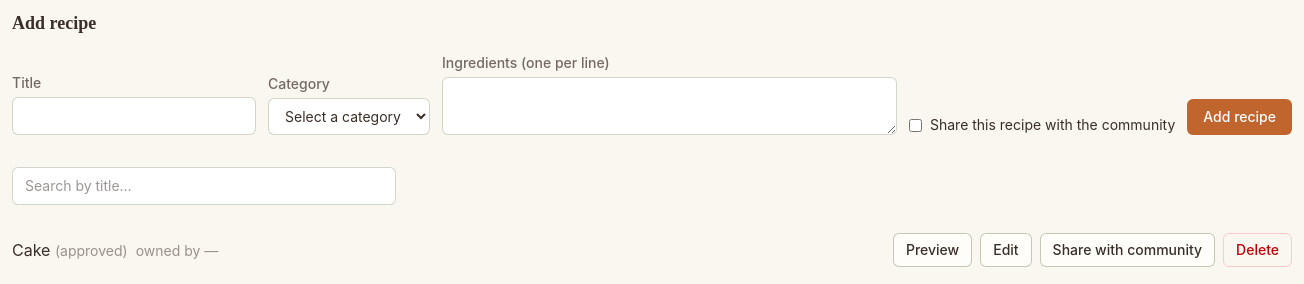
RecipeManager › shows a no-results message in place of the list when the search matches nothing
Expected: the text "Cake (approved)owned by —" is shown, [12, 238, 218, 262]
Type "xyz" into the search field with placeholder "Search by title…" at (204, 186), box [12, 167, 396, 205]
Wait 1500 ms
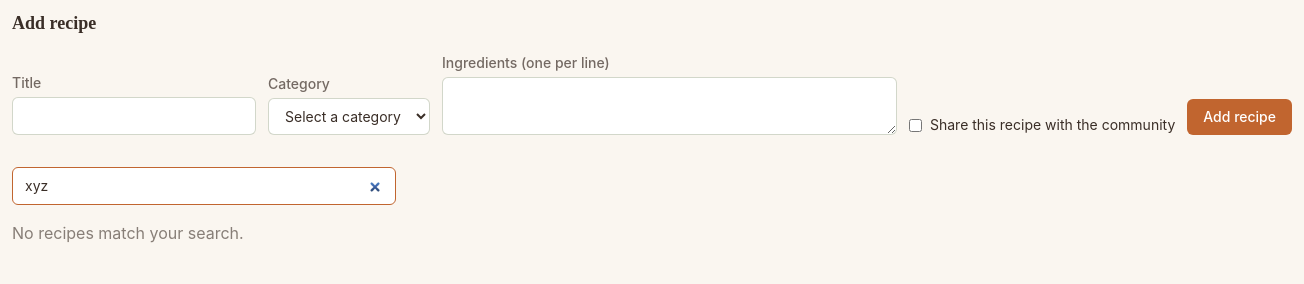
Expected: the text "No recipes match your search." is shown, [12, 223, 244, 243]
